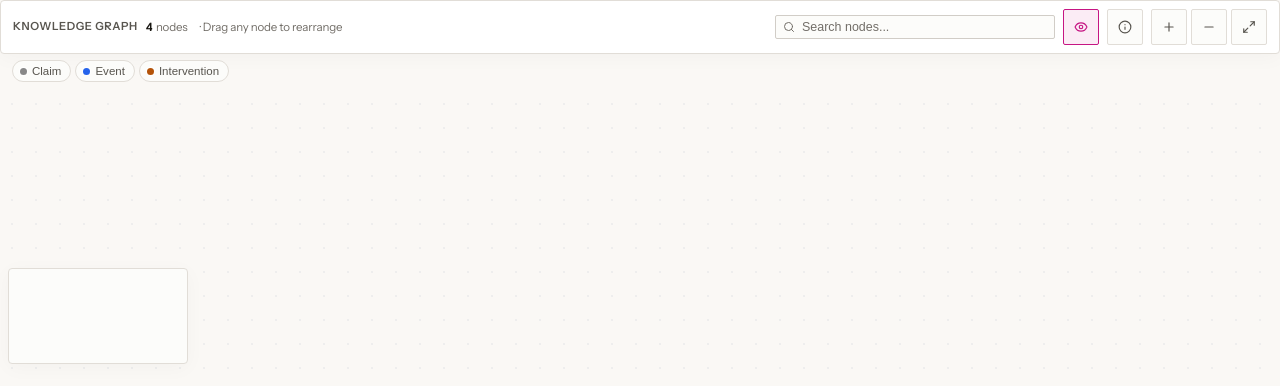
Test: shows a recoverable filter-empty state while retaining the graph container
This screenshot has width=1280, height=386.
Type "unmatched-query" into the search field with test id "kg-graph-board-search".
click(915, 27); type("unmatched-query")  # box [775, 15, 1055, 39]
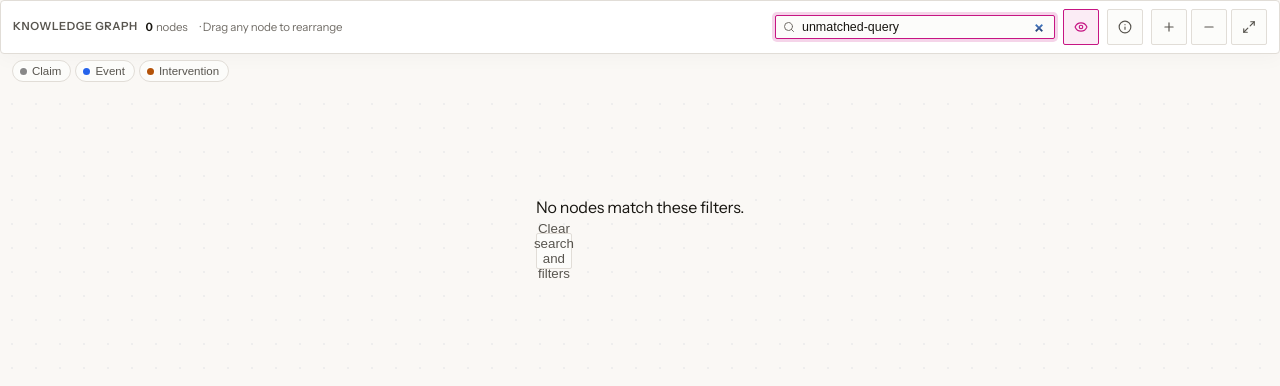
Check: the message with test id "kg-graph-board-no-matches" shows "No nodes match", box [536, 197, 744, 217]
Check: the picture with test id "kg-graph-board-minimap" is gone
Click the button "Clear search and filters".
click(554, 251)  # box [536, 233, 572, 269]
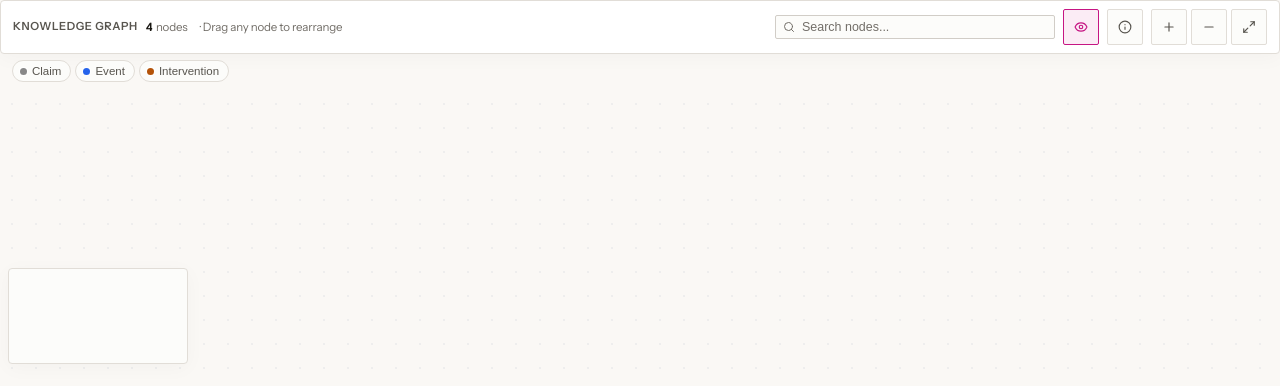
Check: the message with test id "kg-graph-board-no-matches" is gone
